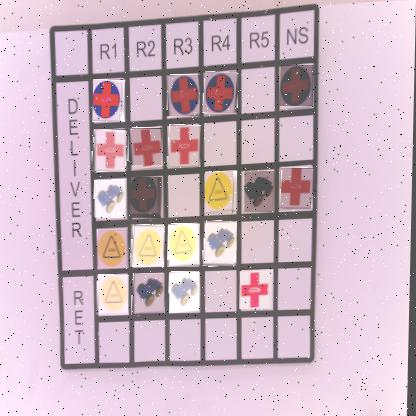OrderBlue: (167, 76, 203, 118), (205, 72, 240, 115), (281, 66, 316, 108), (94, 80, 127, 124), (133, 179, 165, 221)
OrderGurney: (205, 222, 240, 268), (134, 274, 168, 317), (245, 172, 277, 214), (171, 273, 203, 315), (96, 181, 130, 220)
OrderRed: (94, 130, 129, 174), (281, 169, 316, 211), (242, 270, 277, 312), (169, 126, 203, 169), (130, 129, 165, 167)
OrderYellow: (133, 225, 168, 269), (169, 225, 203, 269), (207, 172, 240, 215), (99, 276, 132, 317), (98, 231, 131, 269)
